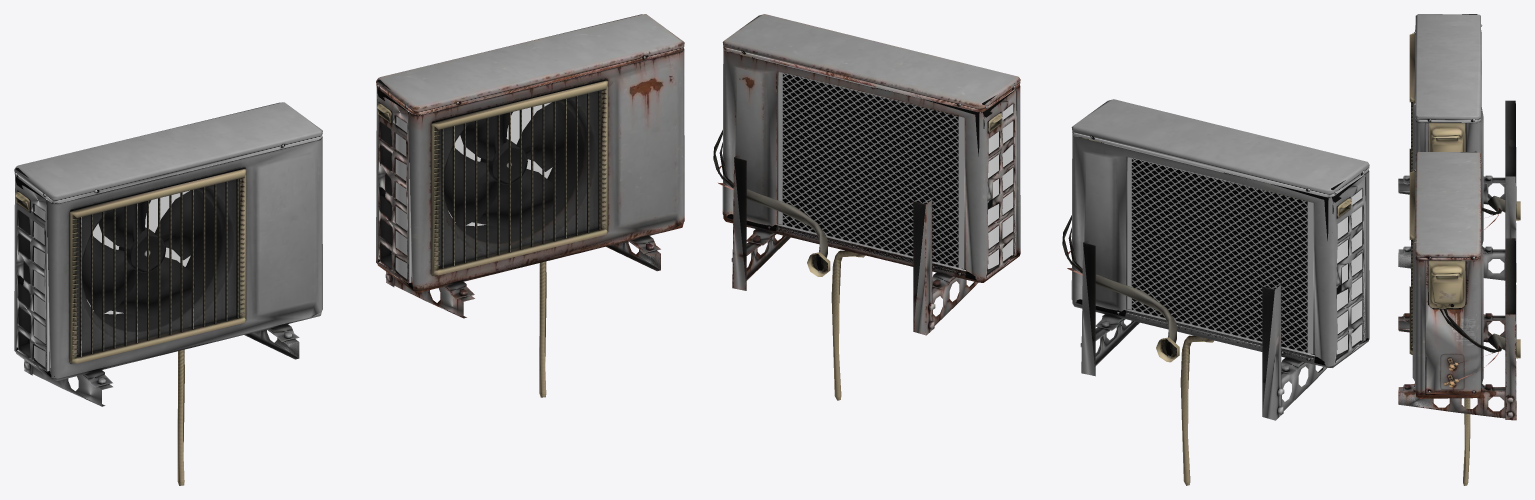
Rendered from ph_exterior_aircon_unit.glb.
The picture shows the model from 3 angles, left to right: view 1: azimuth 30°, elevation 25°; view 2: azimuth 150°, elevation 25°; view 3: azimuth 270°, elevation 25°; orthographic projection. The views are drawn at different scales.
Visible parts, largest first — view 1: exterior_aircon_unit_rusted, exterior_aircon_unit; view 2: exterior_aircon_unit_rusted, exterior_aircon_unit; view 3: exterior_aircon_unit_rusted, exterior_aircon_unit.
Part boxes in pixels (box(x1,y1,x2,y2)): exterior_aircon_unit_rusted: box(376, 14, 684, 397); exterior_aircon_unit: box(14, 102, 322, 485); exterior_aircon_unit_rusted: box(713, 14, 1020, 400); exterior_aircon_unit: box(1062, 99, 1369, 485); exterior_aircon_unit_rusted: box(1398, 151, 1520, 485); exterior_aircon_unit: box(1398, 14, 1520, 282).
Bounding box in the file's own units: 1.8 × 0.9279 × 0.3742.
Materials: 4 (4 with a texture image).
